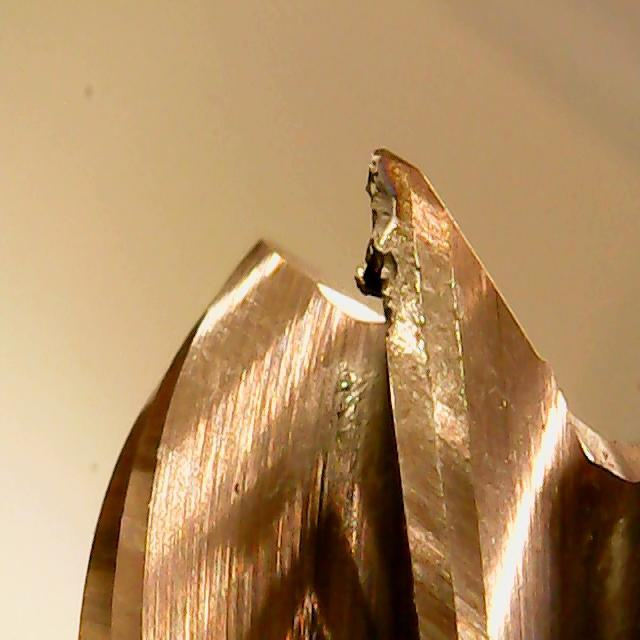Tool-wear-class-1: (350, 147, 477, 388)
